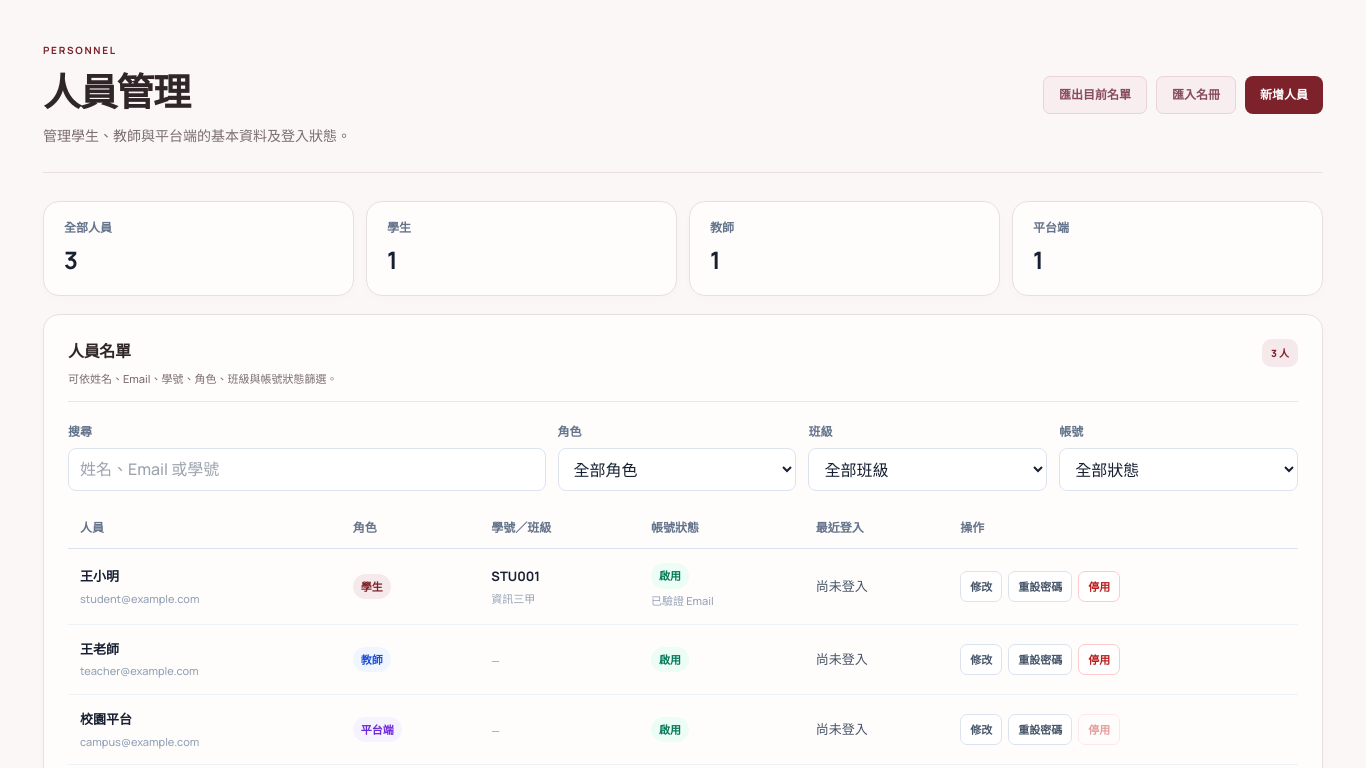
Test case: shows all roles and filters personnel by keyword
This screenshot has width=1366, height=768.
Expected: the heading "人員管理" is shown, [43,65,190,117]
Expected: the text "王小明" is shown, [80,567,119,585]
Type "STU001" into the field named "搜尋人員".
click(307, 469); type("STU001")  # box [68,448,546,491]
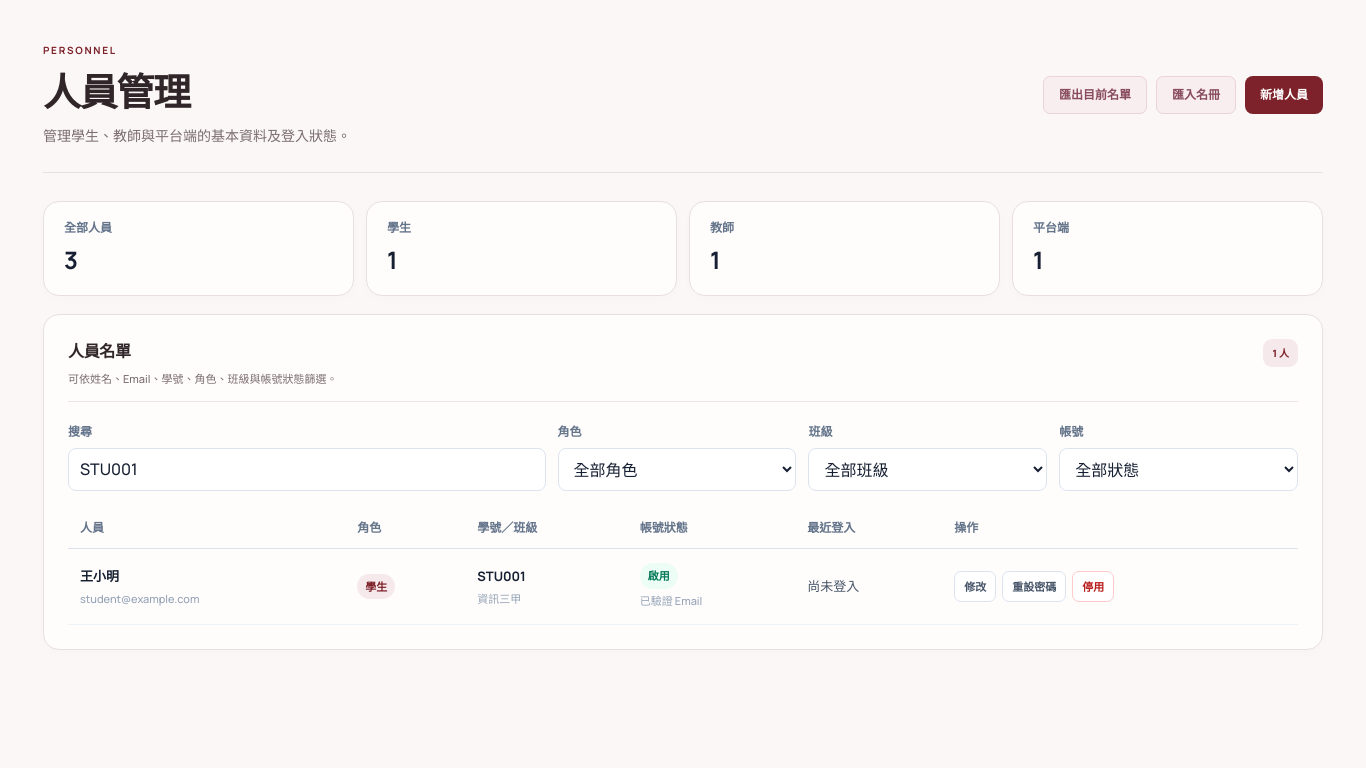
Expected: the text "王小明" is shown, [80,567,119,585]
Result: the text "王老師" is gone
